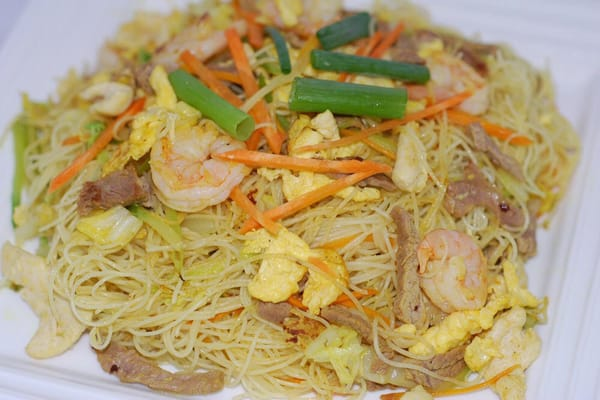pizza: (45, 96, 147, 205), (260, 161, 392, 224), (46, 116, 117, 206), (179, 49, 245, 110), (225, 28, 259, 96)
